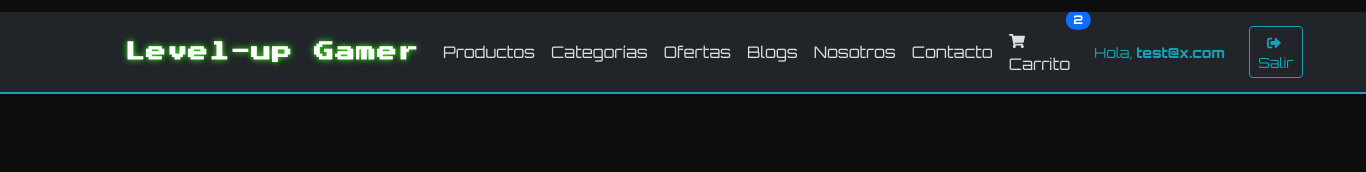
Scenario: Navbar component › shows cart badge and user greeting when session exists and removes them on logout
Expected: the text with class "cart-badge" reads "2", [1073,12,1083,27]
Click the button with class "logout-btn" at coordinates (1276, 52), box [1249,26,1302,78]
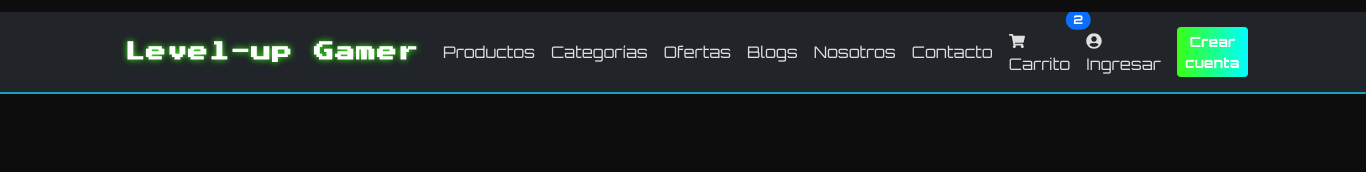
Now the text "Ingresar" is shown, box [1086,33,1161,74]
